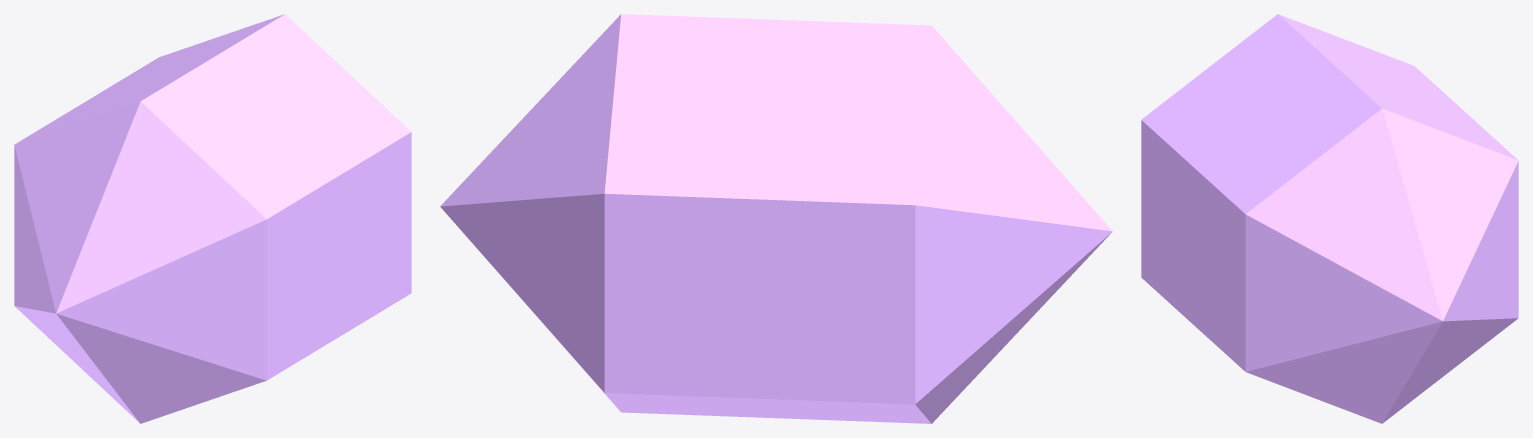
Rendered from gem_swift.glb.
3 views of the same model, side by side, from view 1: azimuth 30°, elevation 25°; view 2: azimuth 150°, elevation 25°; view 3: azimuth 270°, elevation 25° (orthographic). The views are drawn at different scales.
Parts seen in each view (by area): view 1: model; view 2: model; view 3: model.
Part boxes in pixels (x1,y1,x2,y2): model: (14, 14, 411, 423); model: (440, 14, 1112, 423); model: (1141, 14, 1518, 423).
Bounding box in the file's own units: 0.1532 × 0.11 × 0.1193.
